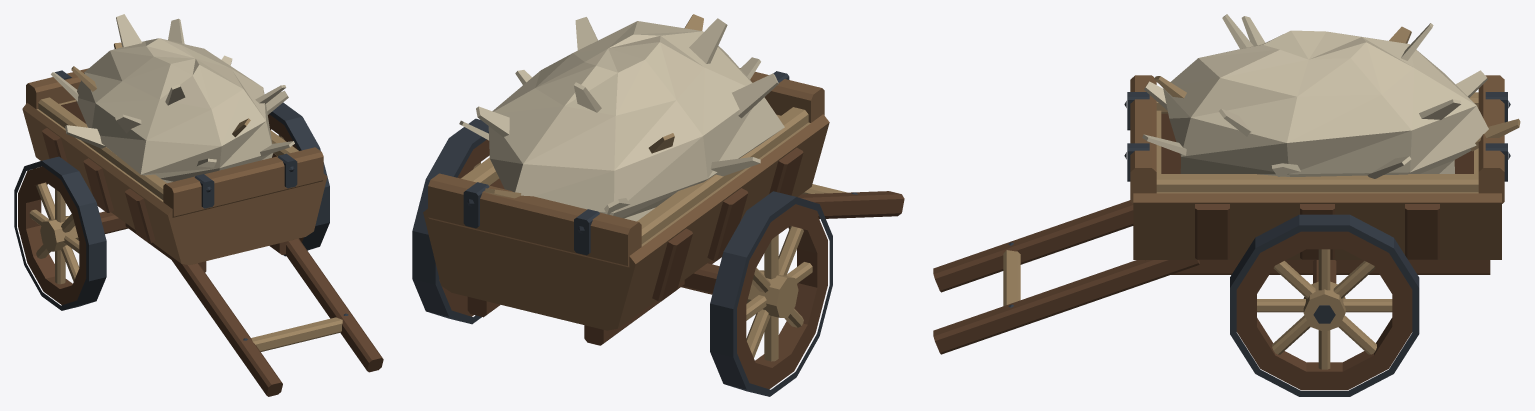
File: wooden-cart-bf83d8.glb
3 renders of one model, left to right at view 1: azimuth 30°, elevation 25°; view 2: azimuth 150°, elevation 25°; view 3: azimuth 270°, elevation 25°, orthographic. The views are drawn at different scales.
Visible parts, largest first — view 1: cart-body, hay-mound, wheel-left-mesh, wheel-right-mesh; view 2: cart-body, hay-mound, wheel-left-mesh, wheel-right-mesh; view 3: cart-body, hay-mound, wheel-right-mesh.
Part boxes in pixels (x1,y1,x2,y2): cart-body: (22, 68, 383, 396); hay-mound: (51, 14, 294, 183); wheel-left-mesh: (14, 156, 106, 310); wheel-right-mesh: (268, 102, 329, 256); cart-body: (423, 68, 904, 345); hay-mound: (459, 14, 784, 221); wheel-left-mesh: (710, 191, 832, 396); wheel-right-mesh: (412, 118, 489, 324); cart-body: (933, 75, 1510, 354); hay-mound: (1142, 14, 1520, 178); wheel-right-mesh: (1230, 214, 1419, 396).
Size of the model in its own units: 1.57 by 1.39 by 2.52.
